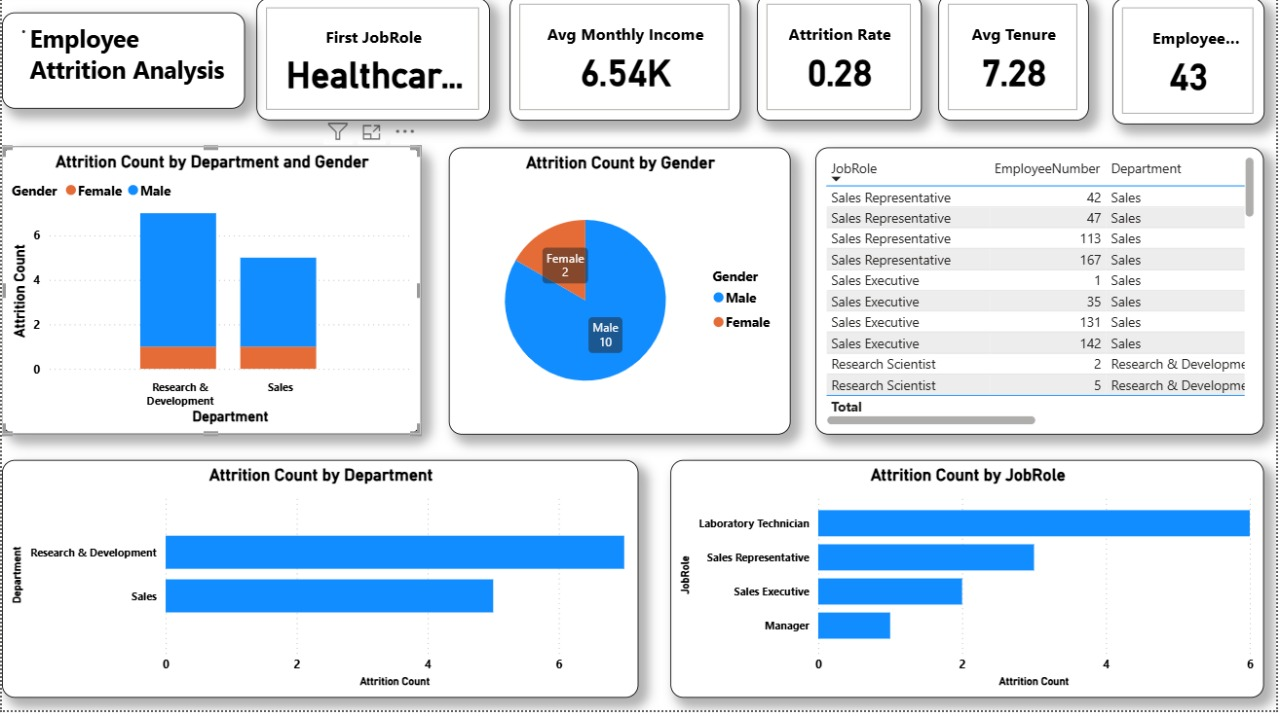

Layout of this report page (visuals, bound fields, positions):
{"tool":"powerbi","page":{"name":"Page 1","canvas":[1280,720],"ordinal":0},"visuals":[{"type":"cardVisual","fields":{"Data":["HR-Employee-Attrition.Employee Count"]},"box":[1115.2,3.6,152.6,127.5],"z":0},{"type":"cardVisual","fields":{"Data":["HR-Employee-Attrition.Attrition Rate"]},"box":[757.8,0,165.2,127.5],"z":1000},{"type":"cardVisual","fields":{"Data":["HR-Employee-Attrition.Avg Monthly Income"]},"box":[510,0,231.7,127.5],"z":2000},{"type":"cardVisual","fields":{"Data":["HR-Employee-Attrition.Avg Tenure"]},"box":[941,0,150.8,127.5],"z":3000},{"type":"clusteredBarChart","fields":{"Category":["HR-Employee-Attrition.Department"],"Y":["HR-Employee-Attrition.Attrition Count"]},"box":[0,468.7,639.3,238.8],"z":4000},{"type":"clusteredBarChart","fields":{"Category":["HR-Employee-Attrition.JobRole"],"Y":["HR-Employee-Attrition.Attrition Count"]},"box":[671.6,468.7,596.2,238.8],"z":5000},{"type":"columnChart","fields":{"Category":["HR-Employee-Attrition.Department"],"Y":["HR-Employee-Attrition.Attrition Count"],"Series":["HR-Employee-Attrition.Gender"]},"box":[0,152.9,420.7,289.8],"z":6000},{"type":"tableEx","fields":{"Values":["HR-Employee-Attrition.JobRole","HR-Employee-Attrition.EmployeeNumber","HR-Employee-Attrition.Department","HR-Employee-Attrition.Age","Sum(HR-Employee-Attrition.MonthlyIncome)","Sum(HR-Employee-Attrition.YearsAtCompany)","HR-Employee-Attrition.Attrition"]},"box":[817.1,154.4,450.7,289.1],"z":7000},{"type":"cardVisual","fields":{"Data":["Min(HR-Employee-Attrition.JobRole)"]},"box":[255.6,3.7,234.8,123.5],"z":8000},{"type":"textbox","box":[0,18,244.2,97],"z":9000},{"type":"pieChart","fields":{"Category":["HR-Employee-Attrition.Gender"],"Y":["HR-Employee-Attrition.Attrition Count"]},"box":[448.9,154.4,343,289.1],"z":10000}]}

Visuals, with their boxes in screenshot pixels (x1, y1, x2, y2), scaled from the page's 1280x720 canvas onto the 1280x716 screenshot:
cardVisual - HR-Employee-Attrition.Employee Count: box(1115, 4, 1268, 130)
cardVisual - HR-Employee-Attrition.Attrition Rate: box(758, 0, 923, 127)
cardVisual - HR-Employee-Attrition.Avg Monthly Income: box(510, 0, 742, 127)
cardVisual - HR-Employee-Attrition.Avg Tenure: box(941, 0, 1092, 127)
clusteredBarChart - HR-Employee-Attrition.Department x HR-Employee-Attrition.Attrition Count: box(0, 466, 639, 704)
clusteredBarChart - HR-Employee-Attrition.JobRole x HR-Employee-Attrition.Attrition Count: box(672, 466, 1268, 704)
columnChart - HR-Employee-Attrition.Department x HR-Employee-Attrition.Attrition Count: box(0, 152, 421, 440)
tableEx - HR-Employee-Attrition.JobRole x HR-Employee-Attrition.EmployeeNumber: box(817, 154, 1268, 441)
cardVisual - Min(HR-Employee-Attrition.JobRole): box(256, 4, 490, 126)
textbox: box(0, 18, 244, 114)
pieChart - HR-Employee-Attrition.Gender x HR-Employee-Attrition.Attrition Count: box(449, 154, 792, 441)
